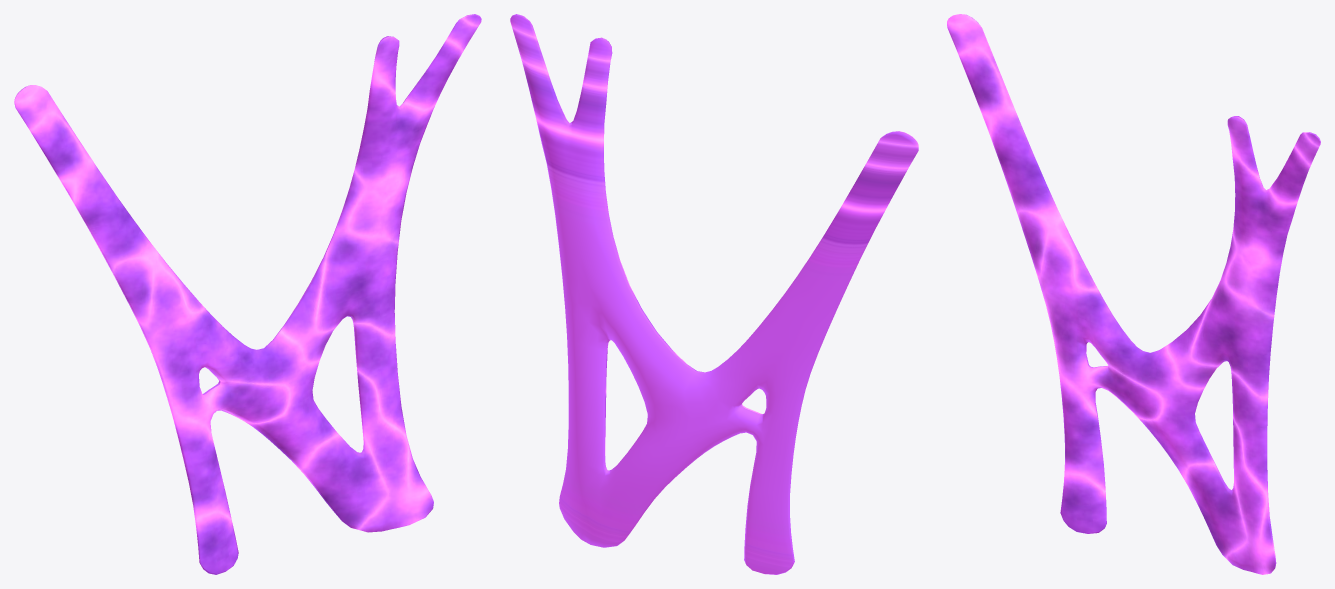
Rendered from caos_drs_chaosenergy_01b_v35.glb.
The picture shows the model from 3 angles, left to right: view 1: azimuth 30°, elevation 25°; view 2: azimuth 150°, elevation 25°; view 3: azimuth 330°, elevation 25°; orthographic projection. The views are drawn at different scales.
Visible parts, largest first — view 1: caos_drs_chaosenergy_01b; view 2: caos_drs_chaosenergy_01b; view 3: caos_drs_chaosenergy_01b.
Part boxes in pixels (left/top/right/bottom): caos_drs_chaosenergy_01b: left=14, top=14, right=481, bottom=574; caos_drs_chaosenergy_01b: left=510, top=14, right=918, bottom=574; caos_drs_chaosenergy_01b: left=947, top=14, right=1320, bottom=574.
Size of the model in its own units: 4.59 by 5.11 by 0.6296.
1 material, 1 textured.
